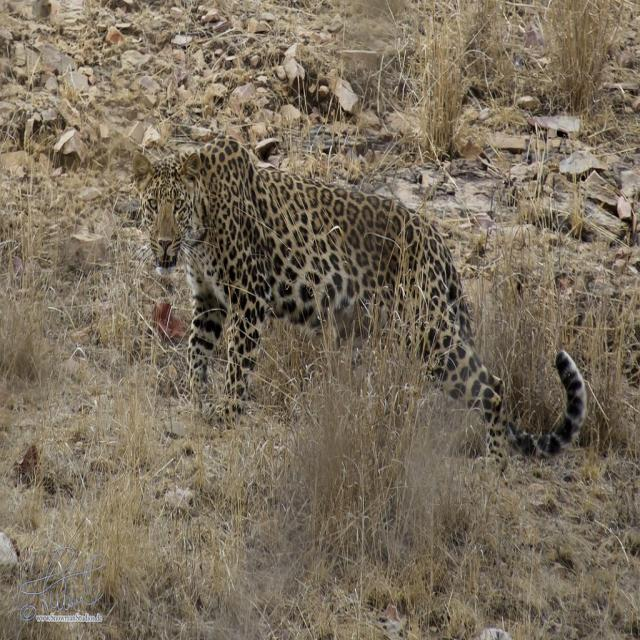Leopard: (137, 136, 572, 433)
